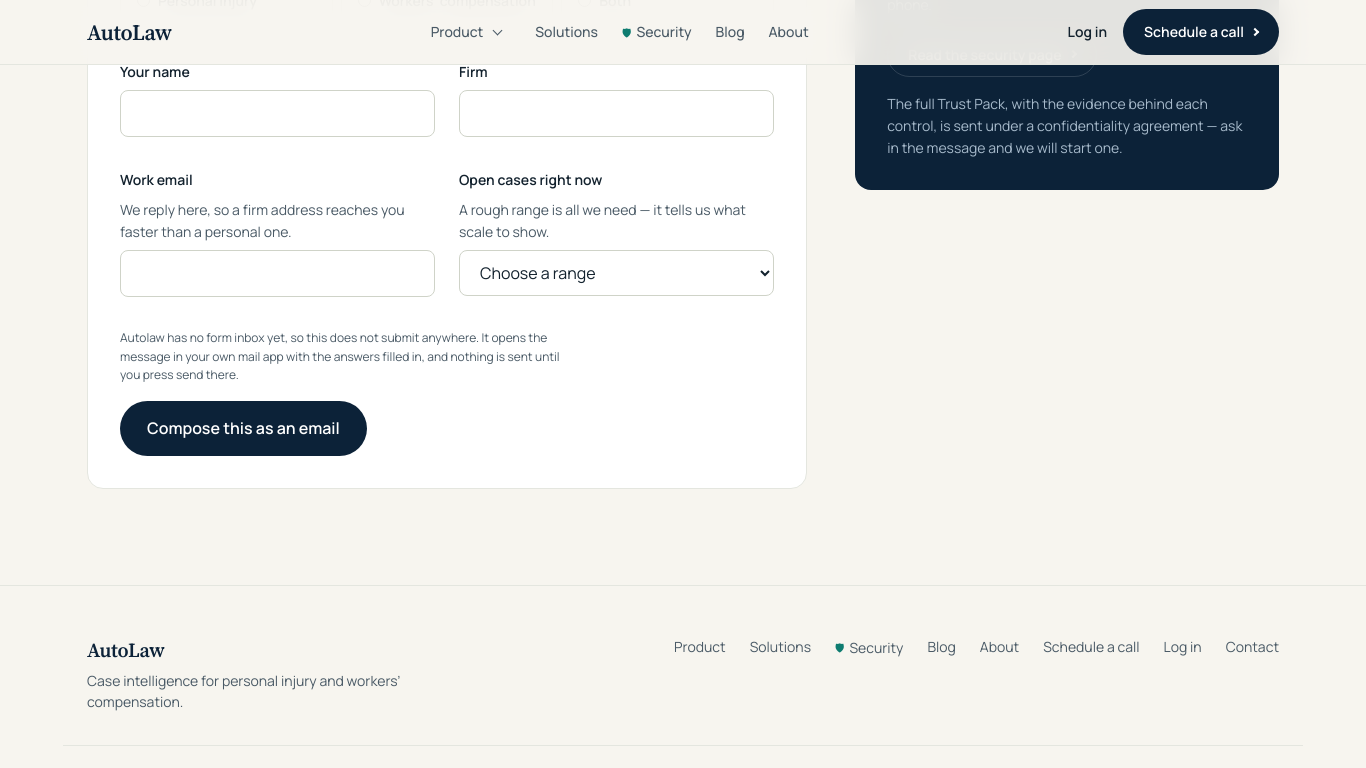
Scenario: ScheduleCallPage — errors are announced, not just coloured › blocks an empty submission and announces every problem in a live region
(page scrolled)
Click the button "Compose this as an email": x=243, y=428 [120,401,367,456]
(page scrolled)
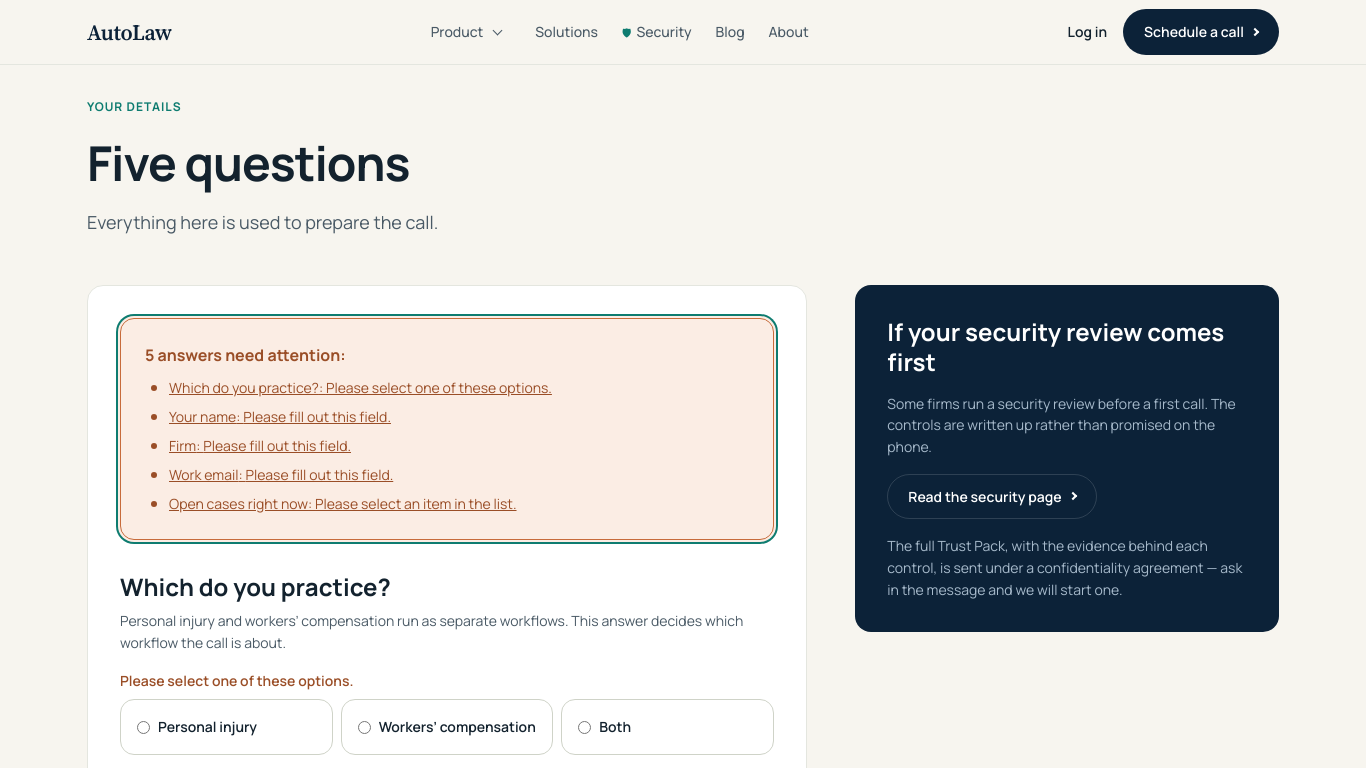
Result: the message shows "5 answers need attention" at [145,344,346,366]
